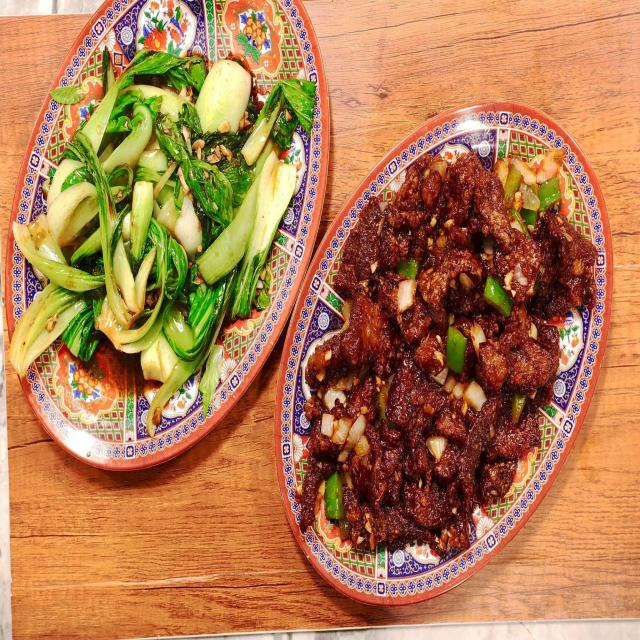Beijing Beef: (300, 147, 598, 562)
water_spinach: (8, 44, 316, 438)
